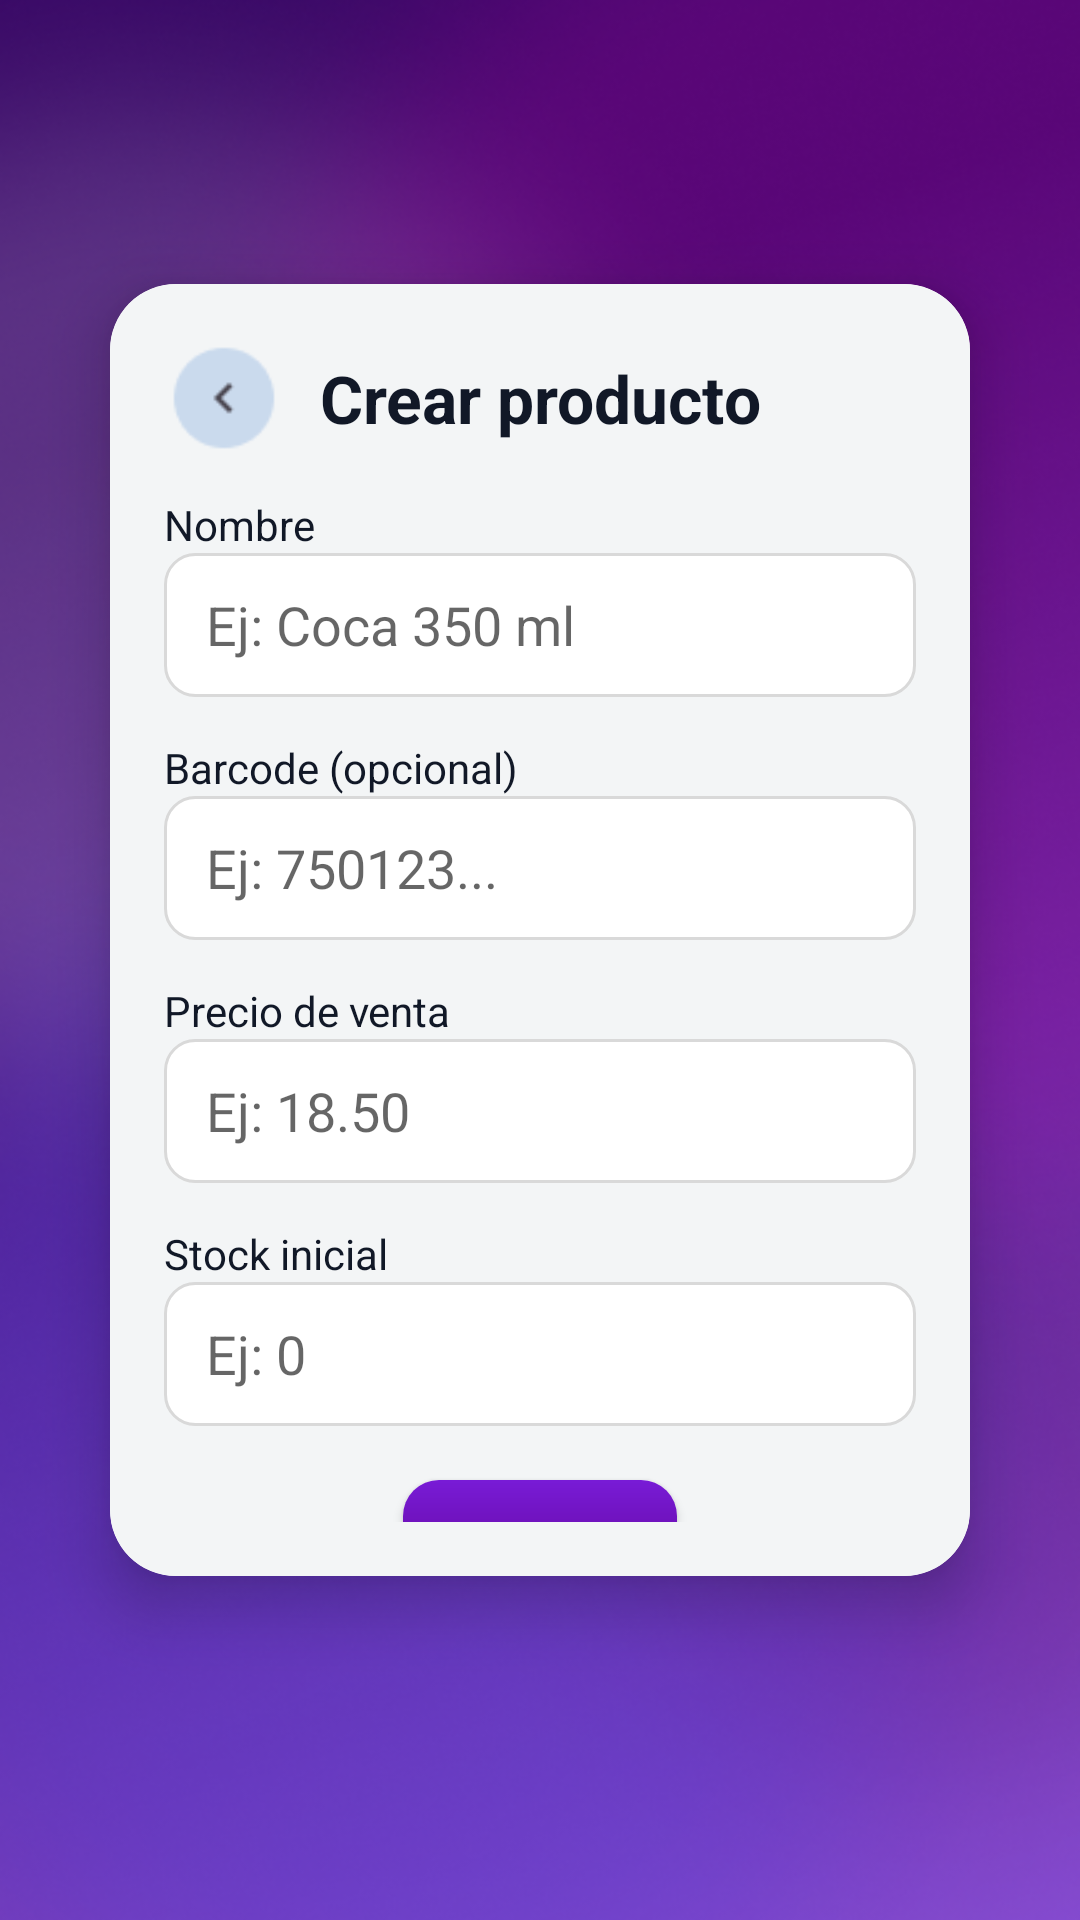

Where to tap for icons on this 1080 x 1920 app screen, as point (x, y):
Volver: point (224, 398)
